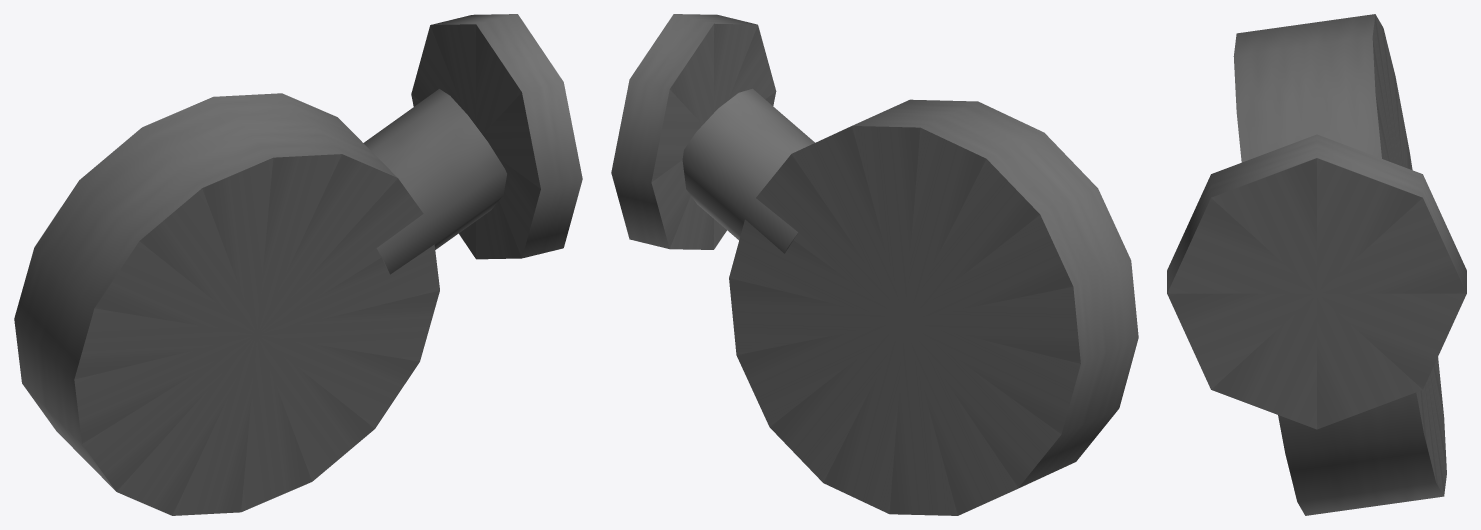
The model's file is mastarmcurve_8x2_c7_east.obj.
The picture shows the model from 3 angles, left to right: view 1: azimuth 30°, elevation 25°; view 2: azimuth 150°, elevation 25°; view 3: azimuth 270°, elevation 25°; orthographic projection. The views are drawn at different scales.
Visible parts, largest first — view 1: mastarm_8x2_c7_east; view 2: mastarm_8x2_c7_east; view 3: mastarm_8x2_c7_east.
Part boxes in pixels (box(x1,y1,x2,y2)): mastarm_8x2_c7_east: box(14, 14, 582, 515); mastarm_8x2_c7_east: box(611, 14, 1138, 515); mastarm_8x2_c7_east: box(1167, 14, 1466, 515).
Bounding box in the file's own units: 0.8249 × 0.7265 × 0.4.
